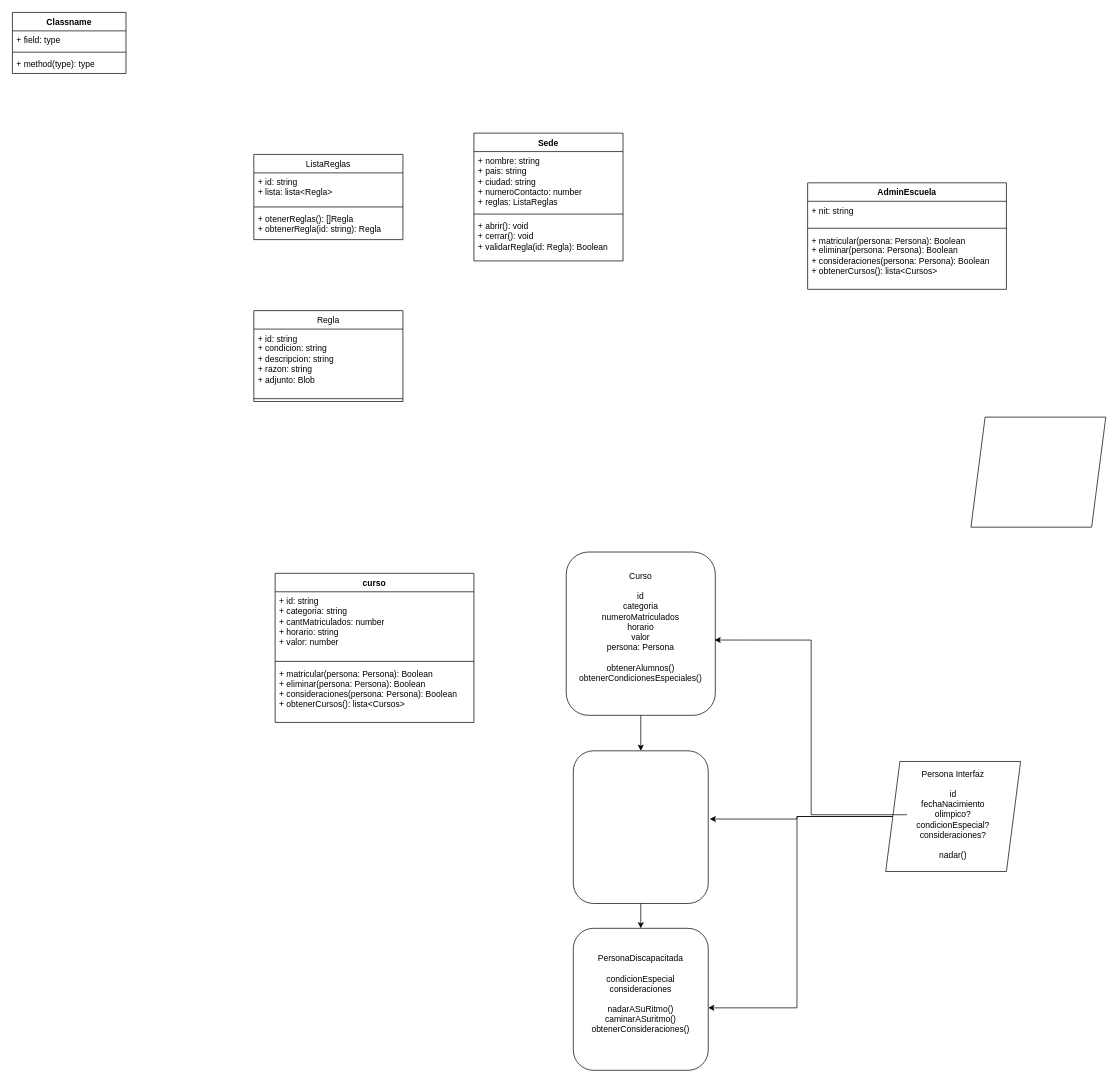
The diagram is 1118 pixels wide and 1083 high, and some of its shapes have lost their labels. Each missing label, with the centre of its shape:
"Curso Interfaz id categoria numeroMatriculados horario valor persona: Persona" goes at (x=1038, y=471).
"Persona id fechaNacimiento olimpico? nadar() caminar()" goes at (x=640, y=826).
